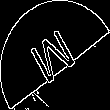M_SE: (27, 21, 83, 89)
